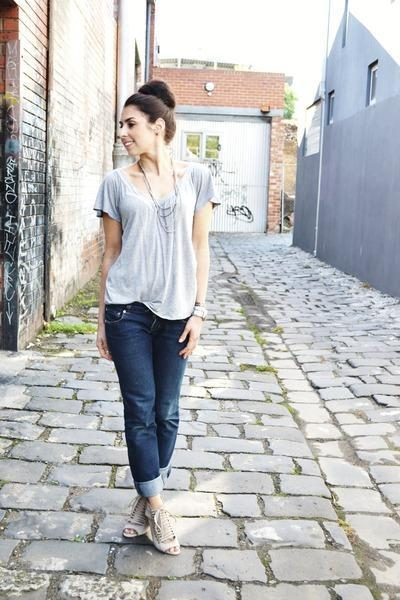pants: (103, 301, 201, 500)
shirt: (94, 173, 220, 318)
shoe: (96, 492, 188, 553)
